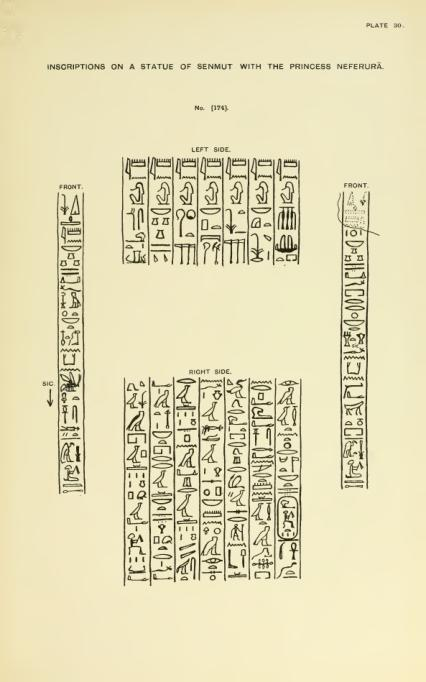circle: (276, 495, 301, 544)
